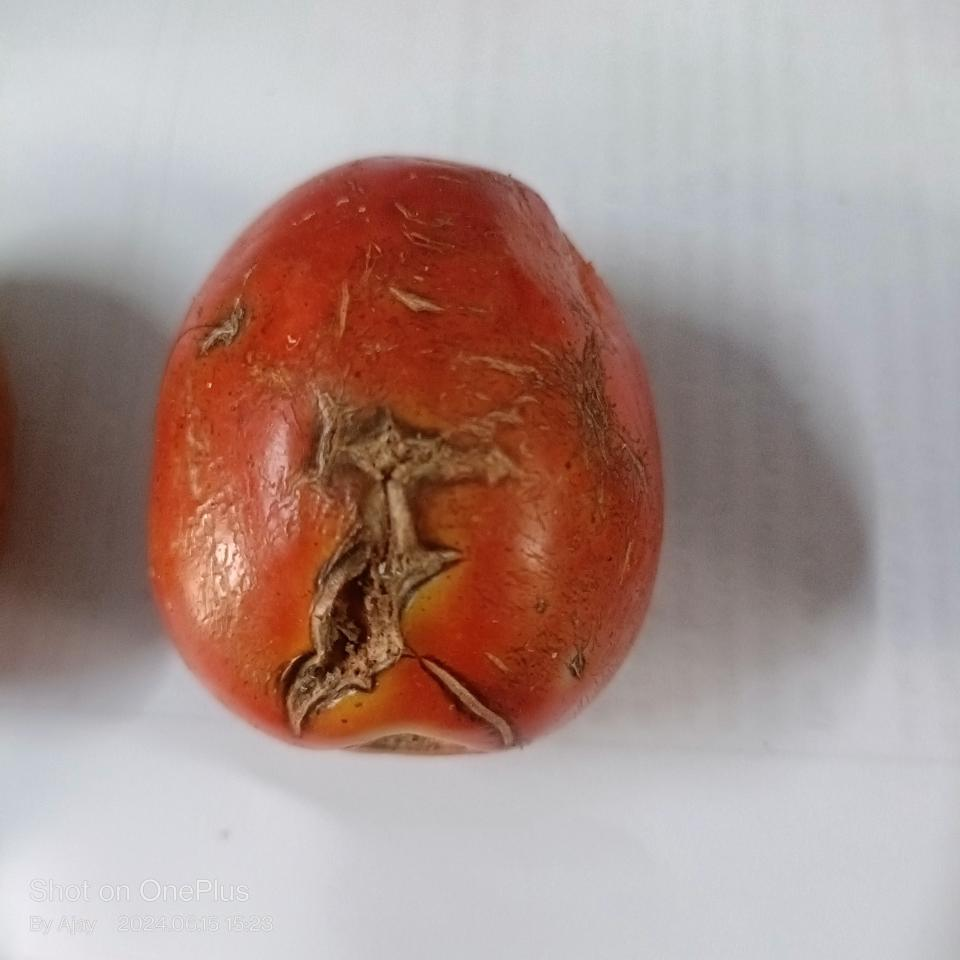Cracking: (275, 412, 532, 742)
